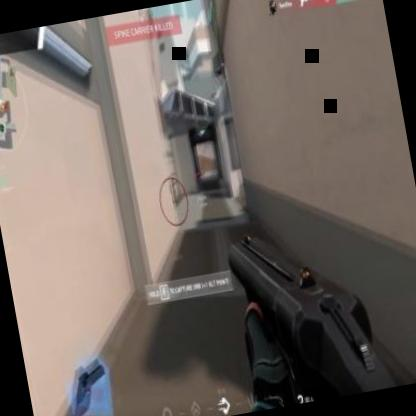enemy: (167, 175, 180, 204)
enemy_head: (170, 177, 173, 182)
